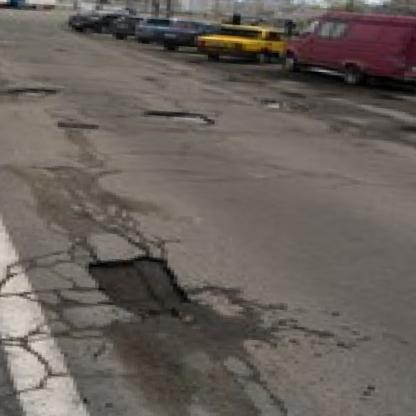pothole: (85, 253, 193, 320), (144, 108, 215, 126), (3, 84, 52, 101), (57, 119, 98, 129)
